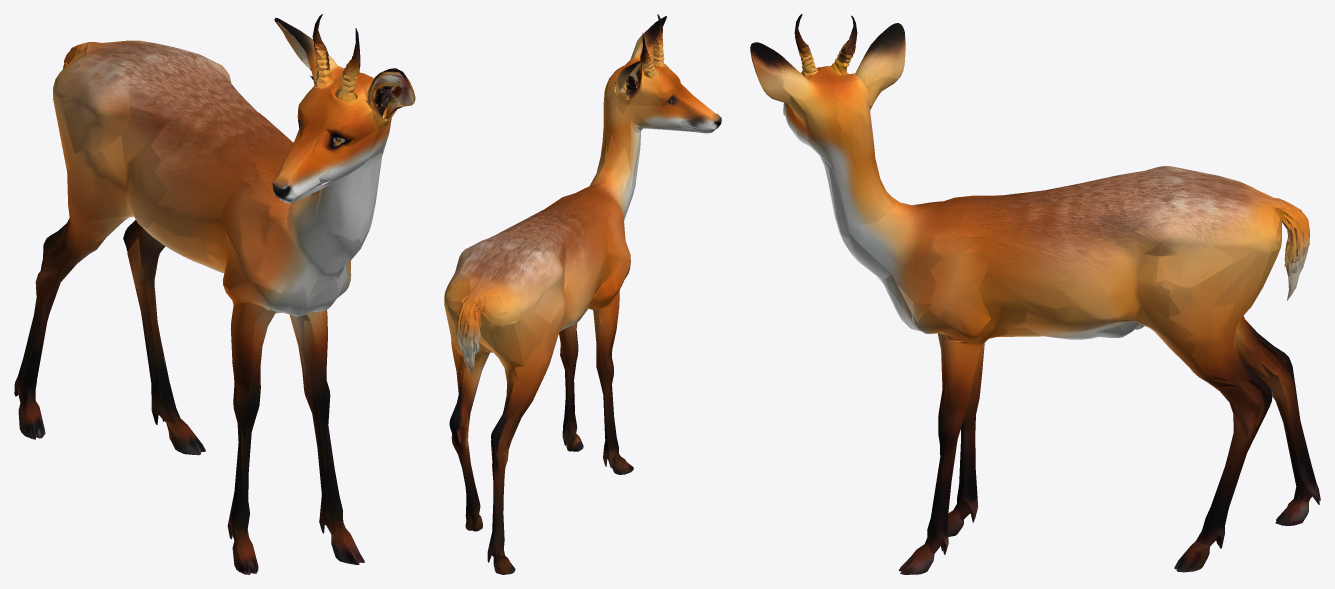
The model's file is deer.glb.
The picture shows the model from 3 angles, left to right: view 1: azimuth 30°, elevation 25°; view 2: azimuth 150°, elevation 25°; view 3: azimuth 270°, elevation 25°; orthographic projection. The views are drawn at different scales.
Size of the model in its own units: 0.5584 by 1.9 by 1.84.
Materials: 1 (1 with a texture image).
